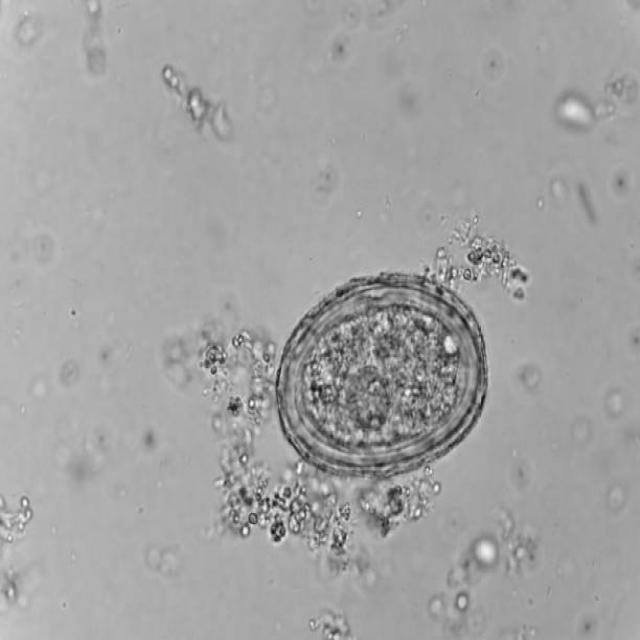Ascaris Lumbricoides: (266, 259, 496, 490)
